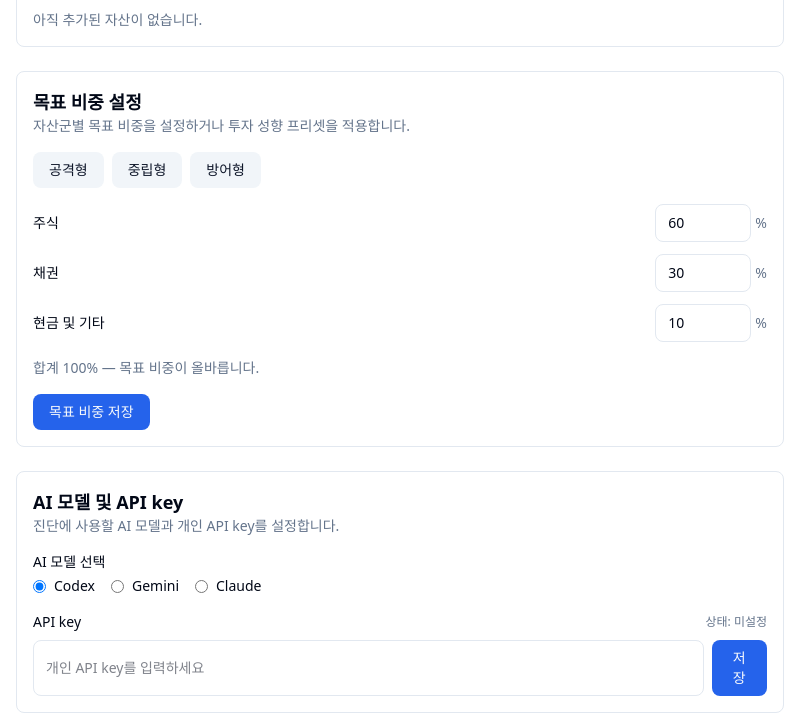
SettingsPortfolioPanel — AI 모델/API key › 짧은 API key 저장 시 오류 상태를 표시한다
(page scrolled)
Expected: the number field named "주식 목표 비중" is shown, [655,204,751,242]
Step 1. Type "short" into the password field labelled "API key" → {"x": 368, "y": 668}, box [33,640,704,696]
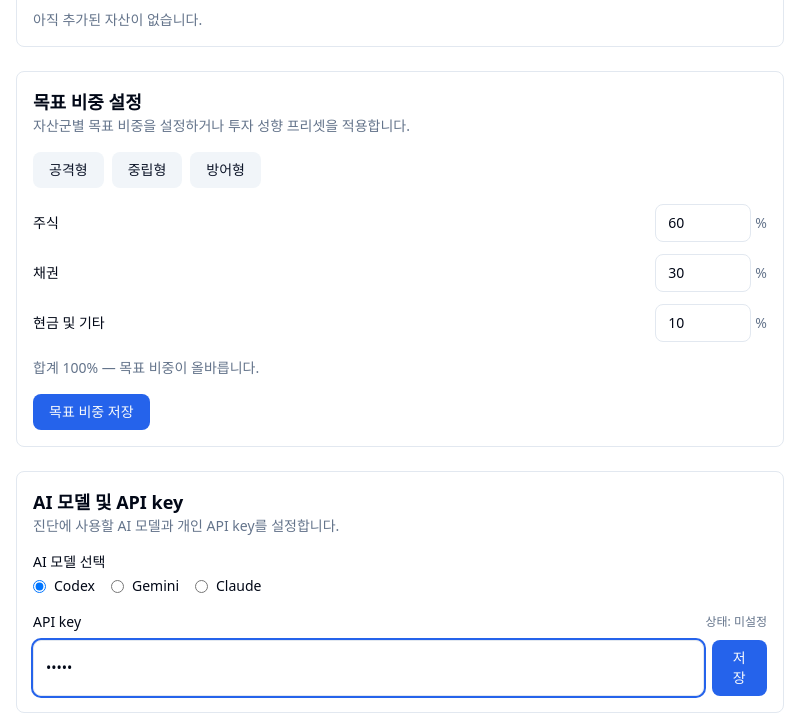
Step 2. Click the button "저장" → {"x": 739, "y": 668}, box [712,640,767,696]
(page scrolled)
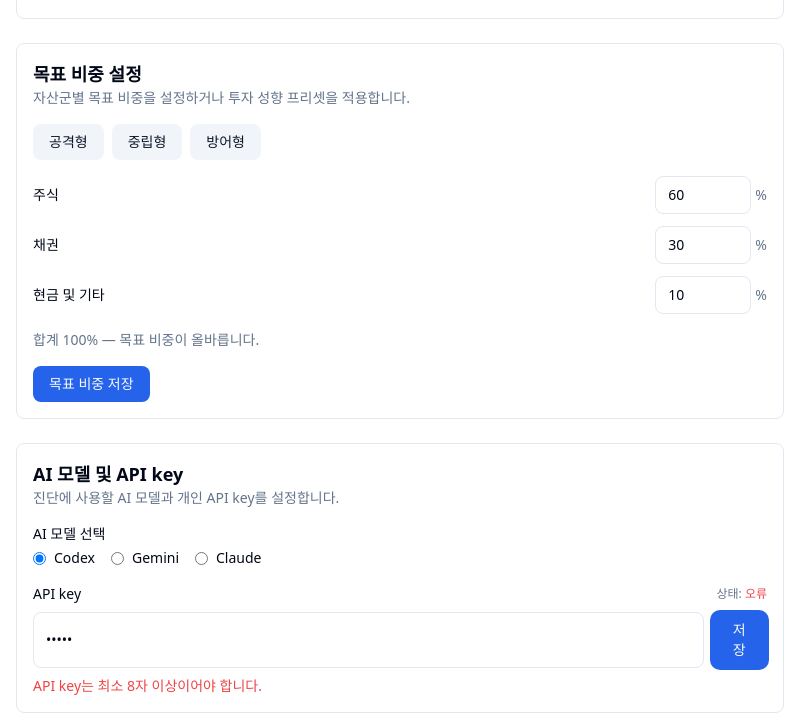
Result: the message shows "최소 8자 이상" at [33,676,262,695]
